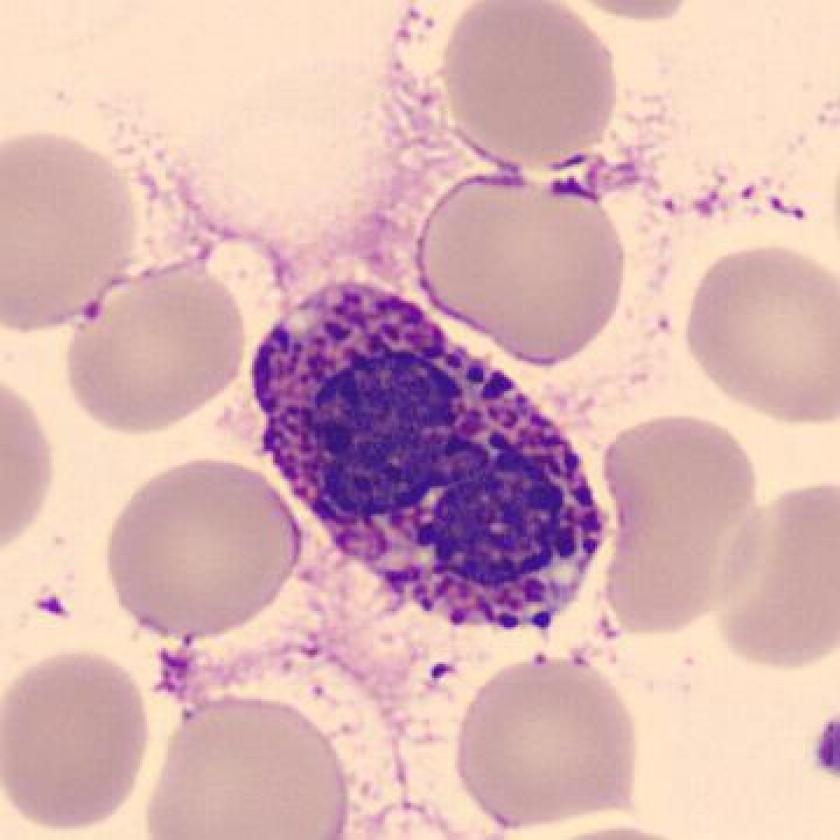basophil: (249, 265, 620, 637)
